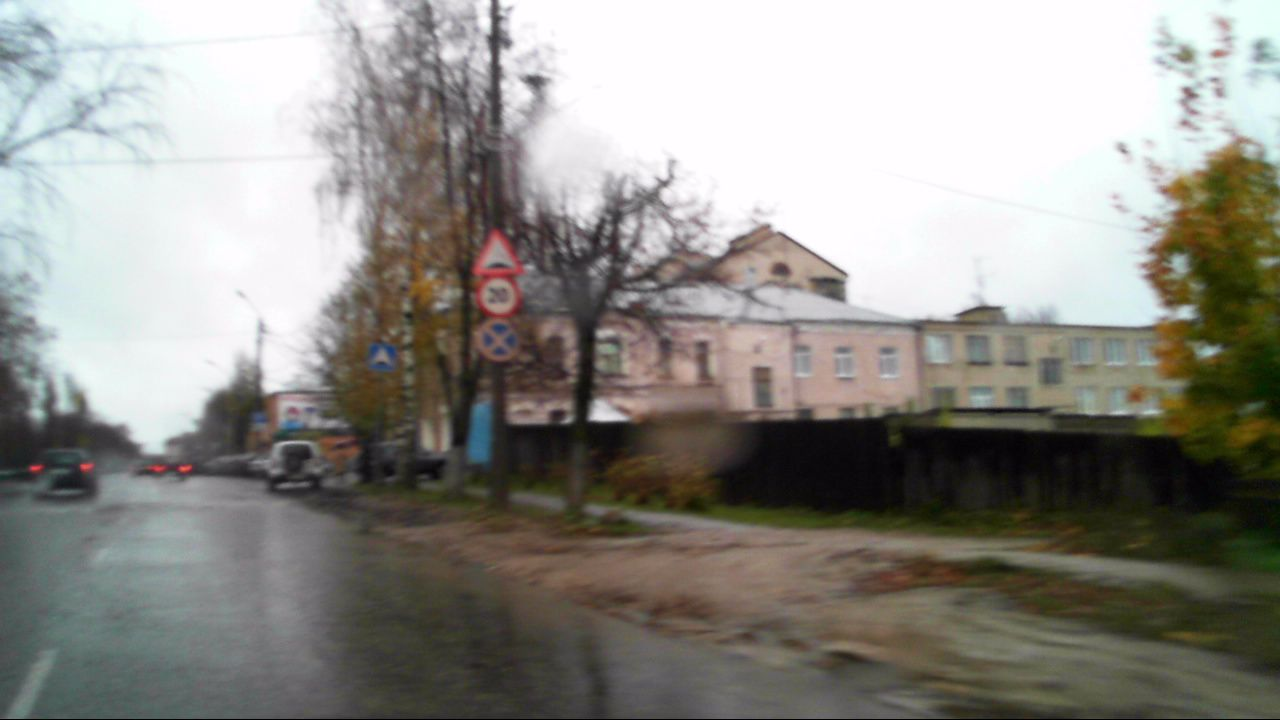No Parking: (476, 318, 520, 361)
